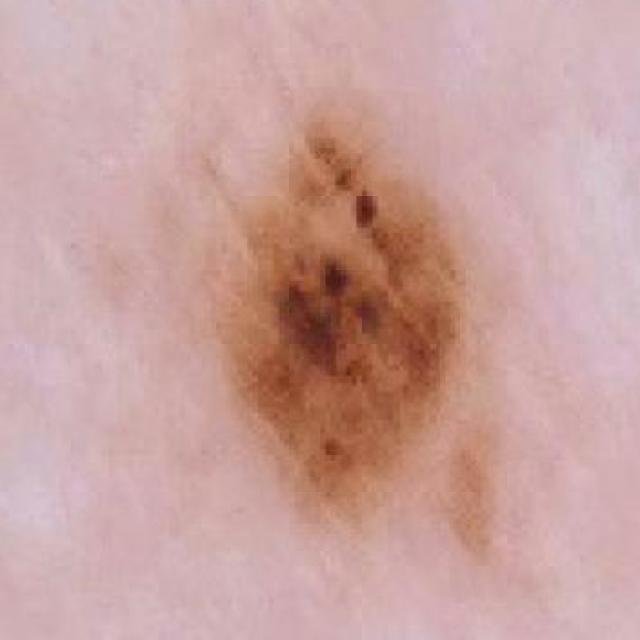MEL: (184, 104, 556, 601)
